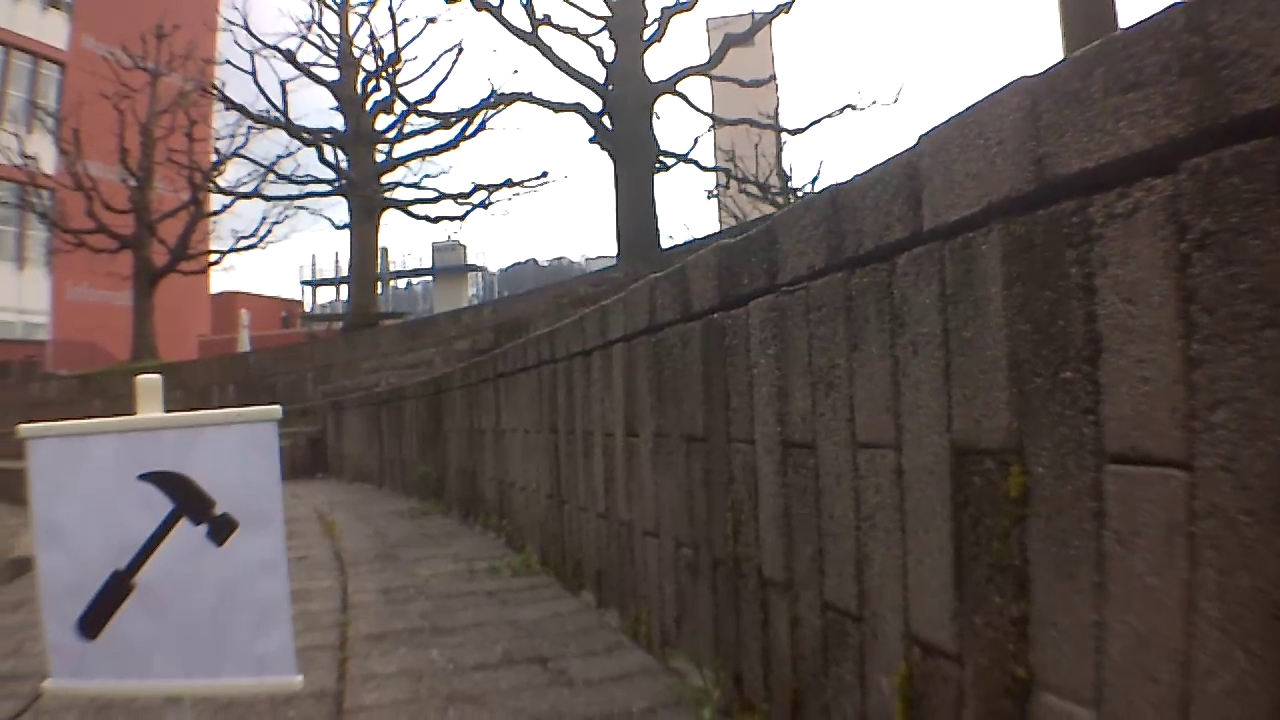hammer: (82, 458, 236, 631)
